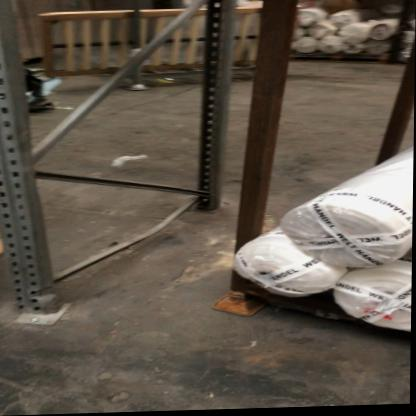vertical_damage: (11, 266, 85, 324)
